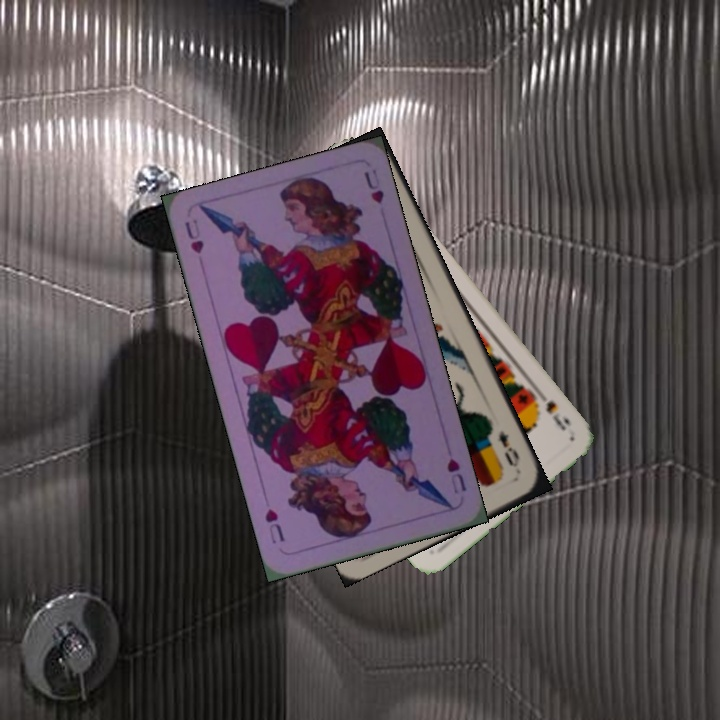EO: (493, 426, 523, 476)
HU: (443, 454, 470, 497), (180, 215, 207, 257)
S9: (531, 384, 575, 434)
